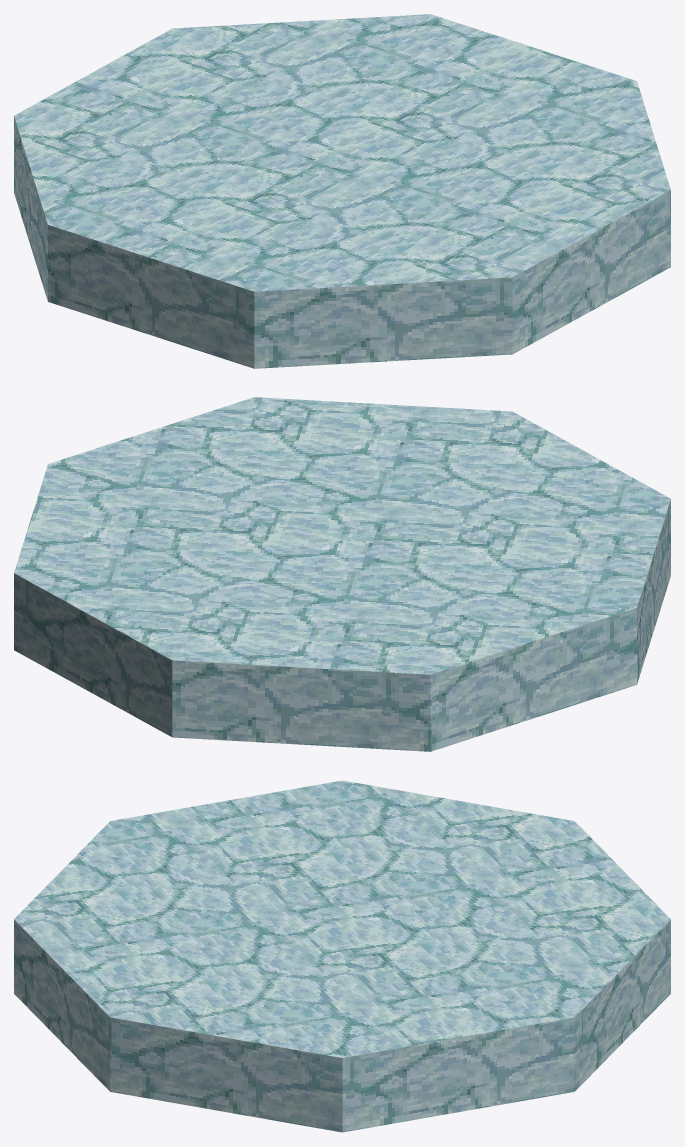
The model's file is rc_kaiten.glb.
3 renders of one model, top to bottom at view 1: azimuth 30°, elevation 25°; view 2: azimuth 150°, elevation 25°; view 3: azimuth 270°, elevation 25°, orthographic. The views are drawn at different scales.
Visible parts, largest first — view 1: rc_kaiten; view 2: rc_kaiten; view 3: rc_kaiten.
Part boxes in pixels (<box>): rc_kaiten: <box>14,14,670,368</box>; rc_kaiten: <box>14,397,670,751</box>; rc_kaiten: <box>14,780,670,1132</box>.
Bounding box in the file's own units: 12.5 × 1.56 × 12.5.
1 material, 1 textured.
